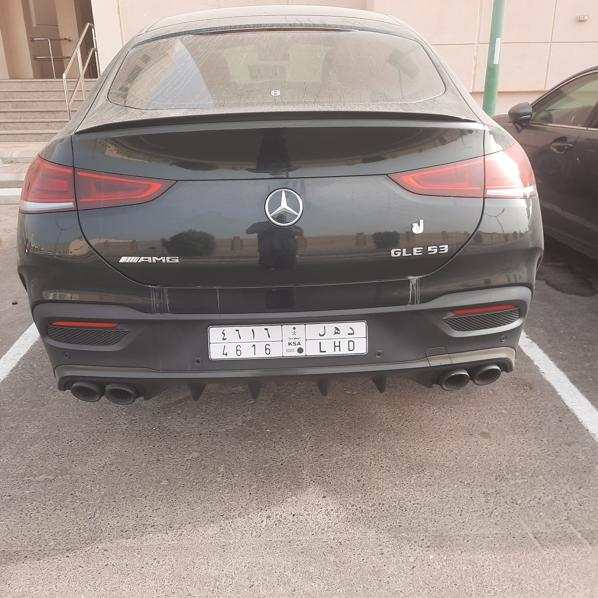numberplate: (208, 323, 371, 357)
